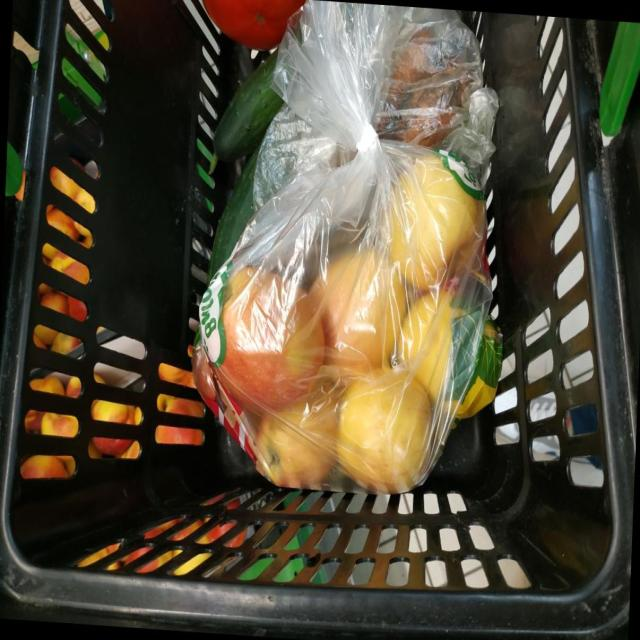apple: (201, 179, 634, 582), (209, 241, 635, 640), (155, 245, 484, 640), (218, 143, 640, 399), (162, 185, 486, 518), (159, 151, 481, 472)
cucumber: (109, 135, 336, 392), (131, 49, 405, 115)
tomato: (102, 4, 320, 29)
